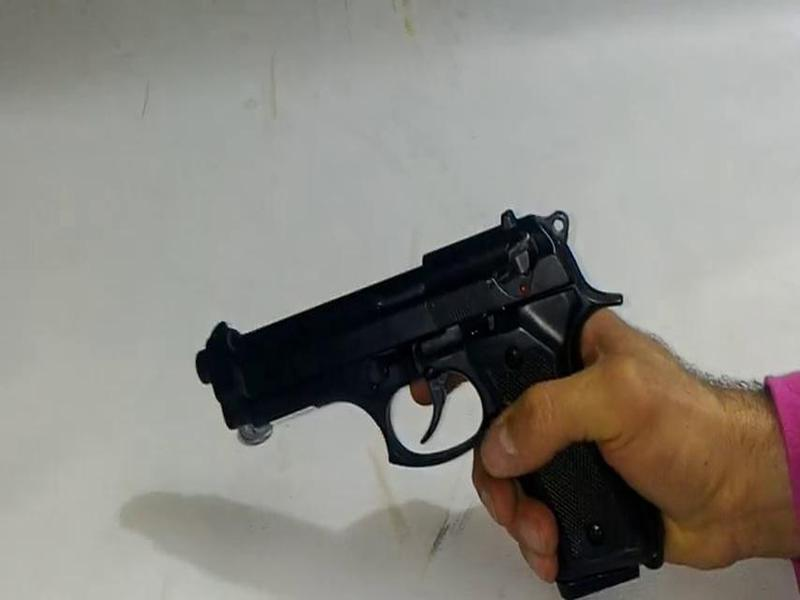Pistola: (177, 199, 683, 583)
